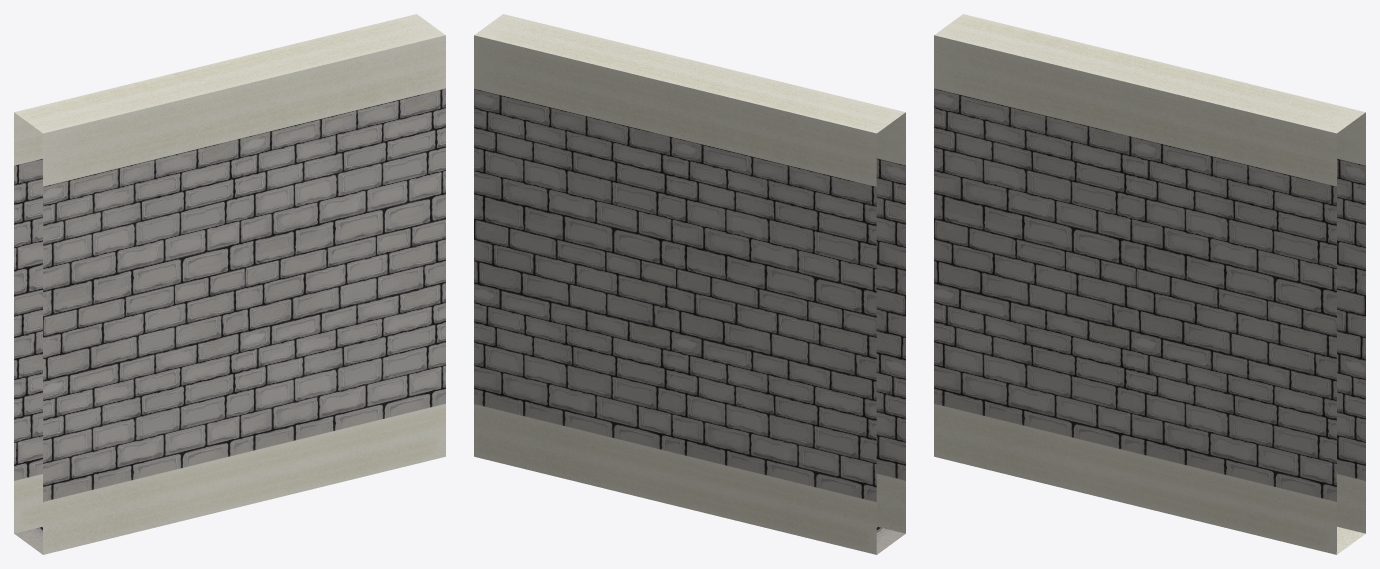
Rendered from Wall.fbx.
3 views of the same model, side by side, from view 1: azimuth 30°, elevation 25°; view 2: azimuth 150°, elevation 25°; view 3: azimuth 330°, elevation 25° (orthographic).
Visible parts, largest first — view 1: Wall_Base; view 2: Wall_Base; view 3: Wall_Base.
Part boxes in pixels (bbox=[...]): Wall_Base: bbox=[14, 14, 445, 554]; Wall_Base: bbox=[474, 14, 905, 554]; Wall_Base: bbox=[934, 14, 1365, 554].
Bounding box in the file's own units: 256 × 256 × 32.
